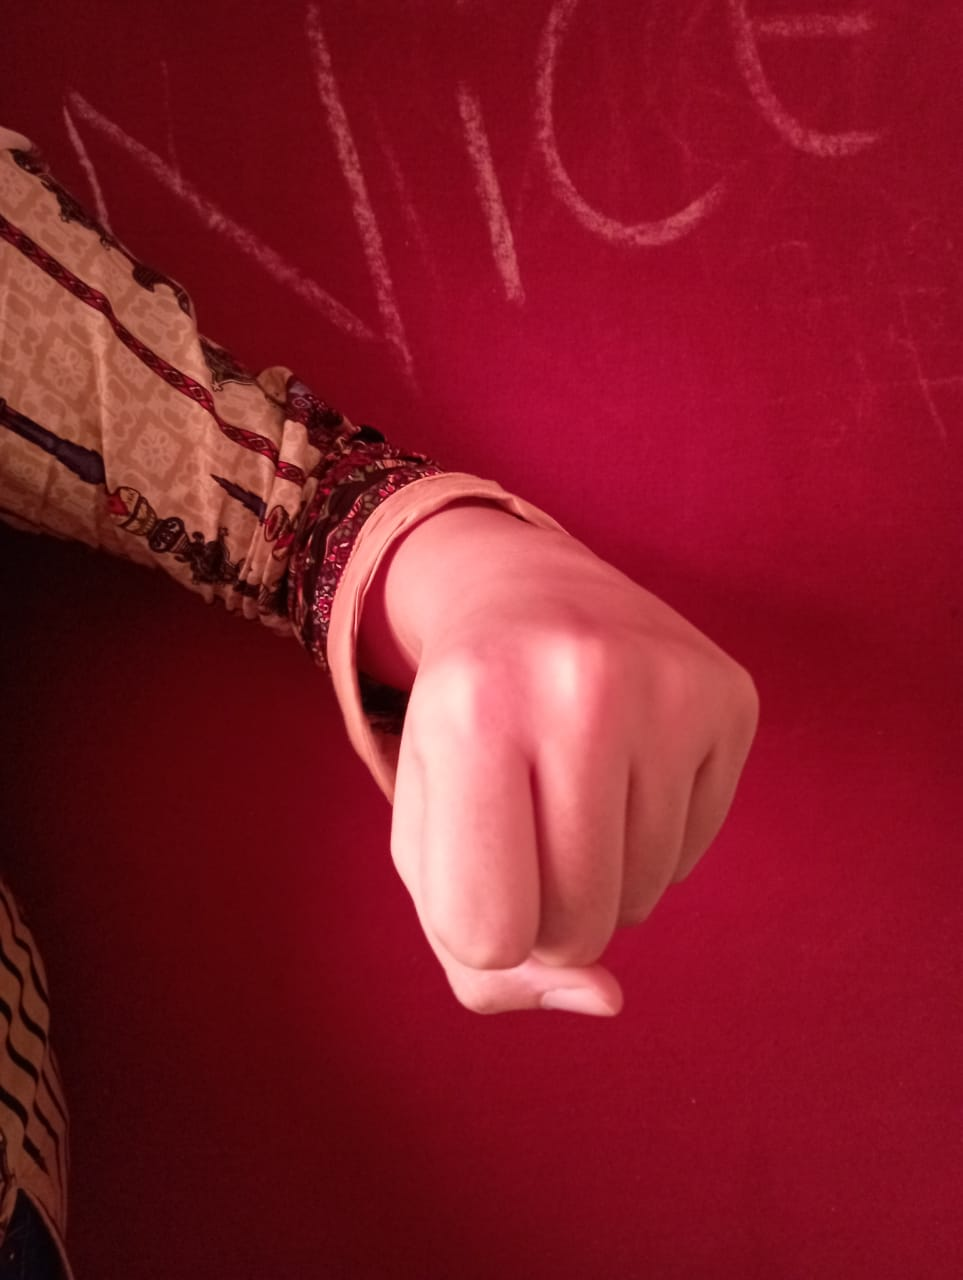BroCode: (368, 619, 780, 1045)
